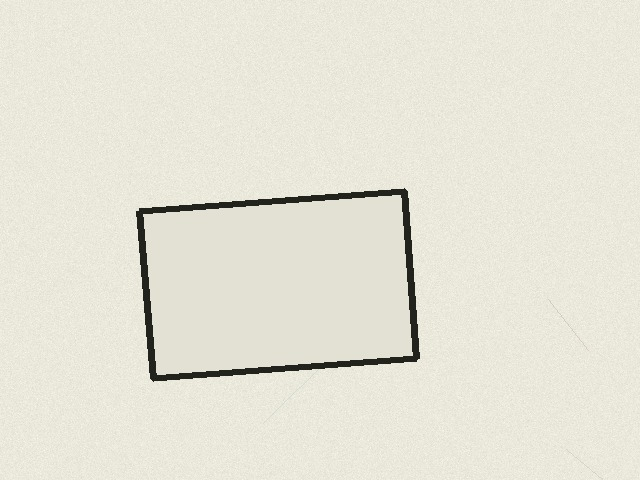parking_area: (139, 191, 416, 378)
